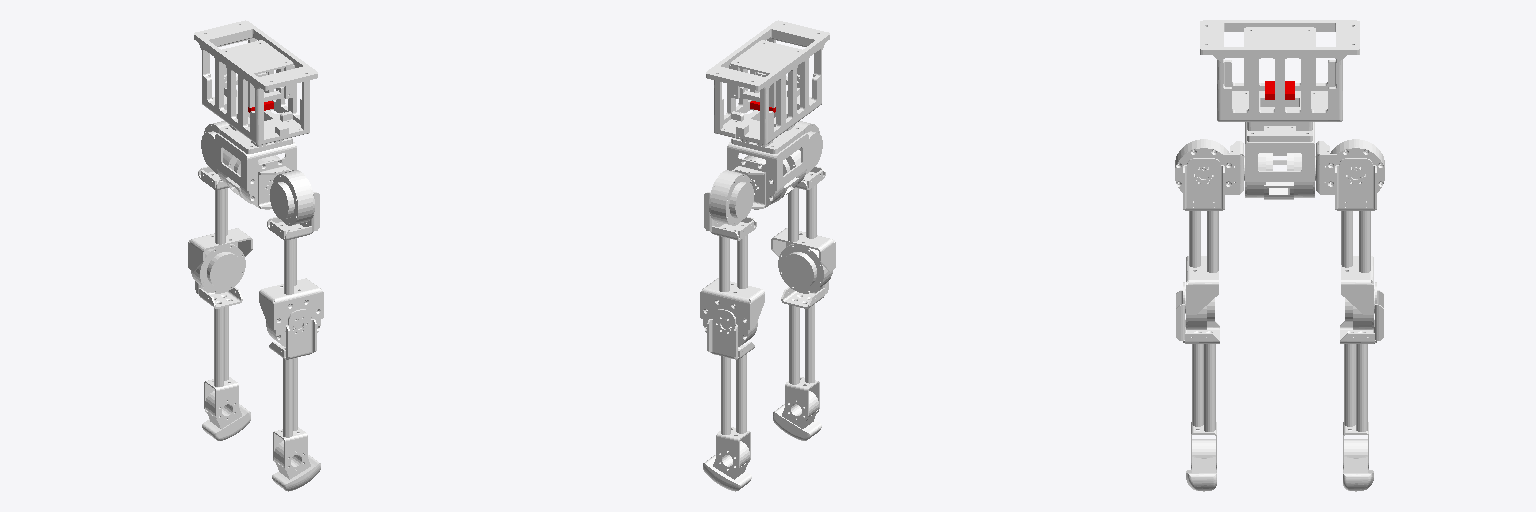
robot.urdf — bipedal_robot:
<?xml version="1.0" ?>
<!-- =================================================================================== -->
<!-- |    This document was autogenerated by xacro from biped.urdf.xacro               | -->
<!-- |    EDITING THIS FILE BY HAND IS NOT RECOMMENDED                                 | -->
<!-- =================================================================================== -->
<robot name="bipedal_robot">
  <link name="base_link">
    <inertial>
      <origin rpy="0 0 0" xyz="0.0000000 -0.0001528 -0.0041040"/>
      <mass value="2.0725291"/>
      <inertia ixx="0.0145041" ixy="0.0000000" ixz="0.0000000" iyy="0.0118815" iyz="0.0000062" izz="0.0059465"/>
    </inertial>
    <visual>
      <origin rpy="0 0 0" xyz="0 0 0"/>
      <geometry>
        <mesh filename="package://biped_description/meshes/base_link.STL"/>
      </geometry>
      <material name="">
        <color rgba="1 1 1 1"/>
      </material>
    </visual>
    <collision>
      <origin rpy="0 0 0" xyz="0 0 0"/>
      <geometry>
        <mesh filename="package://biped_description/meshes/base_link.STL"/>
      </geometry>
    </collision>
  </link>
  <link name="imu_link">
    <inertial>
      <mass value="0.001"/>
      <origin rpy="0 0 0" xyz="0 0 0"/>
      <inertia ixx="0.0001" ixy="0" ixz="0" iyy="0.0001" iyz="0" izz="0.0001"/>
    </inertial>
    <visual>
      <origin rpy="0 0 0" xyz="0 0 0"/>
      <geometry>
        <box size="0.04 0.04 0.01"/>
      </geometry>
      <material name="imu_red">
        <color rgba="1.0 0.0 0.0 1.0"/>
      </material>
    </visual>
  </link>
  <joint name="imu_joint" type="fixed">
    <parent link="base_link"/>
    <child link="imu_link"/>
    <origin rpy="0.0 0.0 0.0" xyz="0.0 0.0 0.05"/>
  </joint>
  <link name="left_hip_pitch_link">
    <inertial>
      <origin rpy="0 0 0" xyz="-0.0023863 0.0000000 0.0511609"/>
      <mass value="0.4380000"/>
      <inertia ixx="0.0003894" ixy="0.0000000" ixz="0.0000025" iyy="0.0002773" iyz="0.0000000" izz="0.0002167"/>
    </inertial>
    <visual>
      <origin rpy="0 0 0" xyz="0 0 0"/>
      <geometry>
        <mesh filename="package://biped_description/meshes/left_hip_pitch_link.STL"/>
      </geometry>
      <material name="">
        <color rgba="1 1 1 1"/>
      </material>
    </visual>
    <collision>
      <origin rpy="0 0 0" xyz="0 0 0"/>
      <geometry>
        <mesh filename="package://biped_description/meshes/left_hip_pitch_link.STL"/>
      </geometry>
    </collision>
  </link>
  <joint name="left_hip_pitch_joint" type="revolute">
    <origin rpy="-1.5708 3.1416 0" xyz="0 0.049 -0.067"/>
    <parent link="base_link"/>
    <child link="left_hip_pitch_link"/>
    <axis xyz="0 0 -1"/>
    <limit effort="10" lower="-1.57" upper="1.57" velocity="20"/>
  </joint>
  <link name="left_hip_roll_link">
    <inertial>
      <origin rpy="0 0 0" xyz="0.0054951 -0.1648534 -0.0187913"/>
      <mass value="0.5673275"/>
      <inertia ixx="0.0025730" ixy="0.0001006" ixz="0.0000001" iyy="0.0003215" iyz="-0.0001472" izz="0.0024395"/>
    </inertial>
    <visual>
      <origin rpy="0 0 0" xyz="0 0 0"/>
      <geometry>
        <mesh filename="package://biped_description/meshes/left_hip_roll_link.STL"/>
      </geometry>
      <material name="">
        <color rgba="1 1 1 1"/>
      </material>
    </visual>
    <collision>
      <origin rpy="0 0 0" xyz="0 0 0"/>
      <geometry>
        <mesh filename="package://biped_description/meshes/left_hip_roll_link.STL"/>
      </geometry>
    </collision>
  </link>
  <joint name="left_hip_roll_joint" type="revolute">
    <origin rpy="0 -1.5708 0" xyz="-0.0205 0 0.055"/>
    <parent link="left_hip_pitch_link"/>
    <child link="left_hip_roll_link"/>
    <axis xyz="0 0 -1"/>
    <limit effort="10" lower="-1.57" upper="0.4" velocity="20"/>
  </joint>
  <link name="left_knee_link">
    <inertial>
      <origin rpy="0 0 0" xyz="-0.0037521 -0.1716951 -0.0213662"/>
      <mass value="0.2830000"/>
      <inertia ixx="0.0024385" ixy="-0.0000882" ixz="0.0000021" iyy="0.0001204" iyz="-0.0001394" izz="0.0024510"/>
    </inertial>
    <visual>
      <origin rpy="0 0 0" xyz="0 0 0"/>
      <geometry>
        <mesh filename="package://biped_description/meshes/left_knee_link.STL"/>
      </geometry>
      <material name="">
        <color rgba="1 1 1 1"/>
      </material>
    </visual>
    <collision>
      <origin rpy="0 0 0" xyz="0 0 0"/>
      <geometry>
        <mesh filename="package://biped_description/meshes/left_knee_link.STL"/>
      </geometry>
    </collision>
    <!-- <visual>
      <origin xyz="0 0 -0.05" rpy="0 0 0" />
      <geometry>
        <box size="0.08 0.04 0.02" />
      </geometry>
      <material name="shoe_black">
        <color rgba="0.9 0.9 0.1 1.0" />
      </material>
    </visual> -->
  </link>
  <joint name="left_knee_joint" type="revolute">
    <origin rpy="0 1.5708 0" xyz="0.0255 -0.2 -0.0205"/>
    <parent link="left_hip_roll_link"/>
    <child link="left_knee_link"/>
    <axis xyz="0 0 1"/>
    <limit effort="10" lower="-0.2" upper="2.2" velocity="20"/>
  </joint>
  <link name="right_hip_pitch_link">
    <inertial>
      <origin rpy="0 0 0" xyz="-0.0023863 0.0000000 0.0511609"/>
      <mass value="0.4380000"/>
      <inertia ixx="0.0003894" ixy="0.0000000" ixz="0.0000025" iyy="0.0002773" iyz="0.0000000" izz="0.0002167"/>
    </inertial>
    <visual>
      <origin rpy="0 0 0" xyz="0 0 0"/>
      <geometry>
        <mesh filename="package://biped_description/meshes/right_hip_pitch_link.STL"/>
      </geometry>
      <material name="">
        <color rgba="1 1 1 1"/>
      </material>
    </visual>
    <collision>
      <origin rpy="0 0 0" xyz="0 0 0"/>
      <geometry>
        <mesh filename="package://biped_description/meshes/right_hip_pitch_link.STL"/>
      </geometry>
    </collision>
  </link>
  <joint name="right_hip_pitch_joint" type="revolute">
    <origin rpy="-1.5707963267949 0 3.14159265358979" xyz="0 -0.049 -0.067"/>
    <parent link="base_link"/>
    <child link="right_hip_pitch_link"/>
    <axis xyz="0 0 -1"/>
    <limit effort="10" lower="-1.57" upper="1.57" velocity="20"/>
  </joint>
  <link name="right_hip_roll_link">
    <inertial>
      <origin rpy="0 0 0" xyz="-0.0054951 -0.1648534 -0.0187913"/>
      <mass value="0.5673275"/>
      <inertia ixx="0.0025730" ixy="-0.0001006" ixz="-0.0000105" iyy="0.0003215" iyz="-0.0001472" izz="0.0024395"/>
    </inertial>
    <visual>
      <origin rpy="0 0 0" xyz="0 0 0"/>
      <geometry>
        <mesh filename="package://biped_description/meshes/right_hip_roll_link.STL"/>
      </geometry>
      <material name="">
        <color rgba="1 1 1 1"/>
      </material>
    </visual>
    <collision>
      <origin rpy="0 0 0" xyz="0 0 0"/>
      <geometry>
        <mesh filename="package://biped_description/meshes/right_hip_roll_link.STL"/>
      </geometry>
    </collision>
  </link>
  <joint name="right_hip_roll_joint" type="revolute">
    <origin rpy="3.1416 1.5708 0" xyz="-0.0205 0 0.055"/>
    <parent link="right_hip_pitch_link"/>
    <child link="right_hip_roll_link"/>
    <axis xyz="0 0 -1"/>
    <limit effort="10" lower="-0.4" upper="1.57" velocity="20"/>
  </joint>
  <link name="right_knee_link">
    <inertial>
      <origin rpy="0 0 0" xyz="0.0037519 -0.1716952 -0.0213662"/>
      <mass value="0.2830000"/>
      <inertia ixx="0.0024385" ixy="0.0000882" ixz="0.0000074" iyy="0.0001204" iyz="-0.0001394" izz="0.0024510"/>
    </inertial>
    <visual>
      <origin rpy="0 0 0" xyz="0 0 0"/>
      <geometry>
        <mesh filename="package://biped_description/meshes/right_knee_link.STL"/>
      </geometry>
      <material name="">
        <color rgba="1 1 1 1"/>
      </material>
    </visual>
    <collision>
      <origin rpy="0 0 0" xyz="0 0 0"/>
      <geometry>
        <mesh filename="package://biped_description/meshes/right_knee_link.STL"/>
      </geometry>
    </collision>
    <!-- <visual>
      <origin xyz="0 0 -0.05" rpy="0 0 0" />
      <geometry>
        <box size="0.08 0.04 0.02" />
      </geometry>
      <material name="shoe_black">
        <color rgba="0.9 0.9 0.1 1.0" />
      </material>
    </visual> -->
  </link>
  <joint name="right_knee_joint" type="revolute">
    <origin rpy="0 -1.5708 0" xyz="-0.0255 -0.2 -0.0205"/>
    <parent link="right_hip_roll_link"/>
    <child link="right_knee_link"/>
    <axis xyz="0 0 1"/>
    <limit effort="10" lower="-2.2" upper="0.2" velocity="20"/>
  </joint>
</robot>

--- What the picture shows (computed from the rendered views, not written in the file) ---
The picture shows the robot from 3 angles, left to right: view 1: azimuth 30°, elevation 25°; view 2: azimuth 150°, elevation 25°; view 3: azimuth 270°, elevation 25°; orthographic projection.
Robot: bipedal_robot — 8 links, 7 joints (6 revolute, 1 fixed); root link base_link; default pose: every joint at zero.
Links seen in each view (by area): view 1: base_link, right_knee_link, left_hip_roll_link, right_hip_roll_link, left_knee_link, right_hip_pitch_link, left_hip_pitch_link; view 2: base_link, left_knee_link, right_hip_roll_link, left_hip_roll_link, right_knee_link, left_hip_pitch_link, right_hip_pitch_link; view 3: base_link, left_hip_roll_link, right_hip_roll_link, left_knee_link, right_knee_link, left_hip_pitch_link, right_hip_pitch_link.
Link boxes in pixels (bbox=[...]): base_link: bbox=[194, 20, 317, 209]; right_knee_link: bbox=[269, 309, 320, 491]; left_hip_roll_link: bbox=[188, 166, 252, 293]; right_hip_roll_link: bbox=[259, 192, 323, 346]; left_knee_link: bbox=[195, 281, 250, 440]; right_hip_pitch_link: bbox=[258, 166, 314, 225]; left_hip_pitch_link: bbox=[201, 121, 228, 173]; base_link: bbox=[706, 20, 829, 209]; left_knee_link: bbox=[703, 309, 754, 491]; right_hip_roll_link: bbox=[771, 166, 835, 293]; left_hip_roll_link: bbox=[700, 192, 764, 346]; right_knee_link: bbox=[773, 281, 828, 440]; left_hip_pitch_link: bbox=[709, 166, 765, 225]; right_hip_pitch_link: bbox=[795, 121, 822, 173]; base_link: bbox=[1200, 20, 1359, 199]; left_hip_roll_link: bbox=[1335, 158, 1376, 329]; right_hip_roll_link: bbox=[1183, 158, 1224, 329]; left_knee_link: bbox=[1340, 282, 1383, 491]; right_knee_link: bbox=[1176, 282, 1219, 491]; left_hip_pitch_link: bbox=[1316, 139, 1384, 194]; right_hip_pitch_link: bbox=[1175, 139, 1243, 194].
Size in the robot's own frame: 0.095 by 0.288 by 0.6839 metres.
7 mesh visuals loaded from 7 distinct referenced files (7 binary STL).